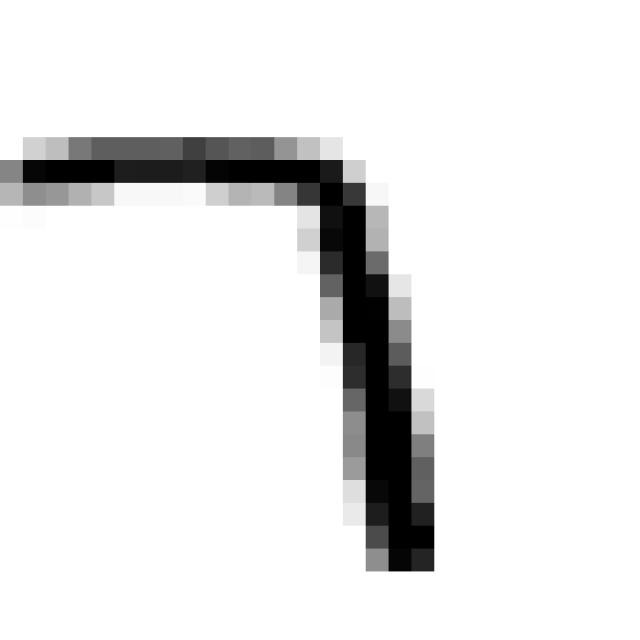6 -six-: (0, 114, 434, 594)
